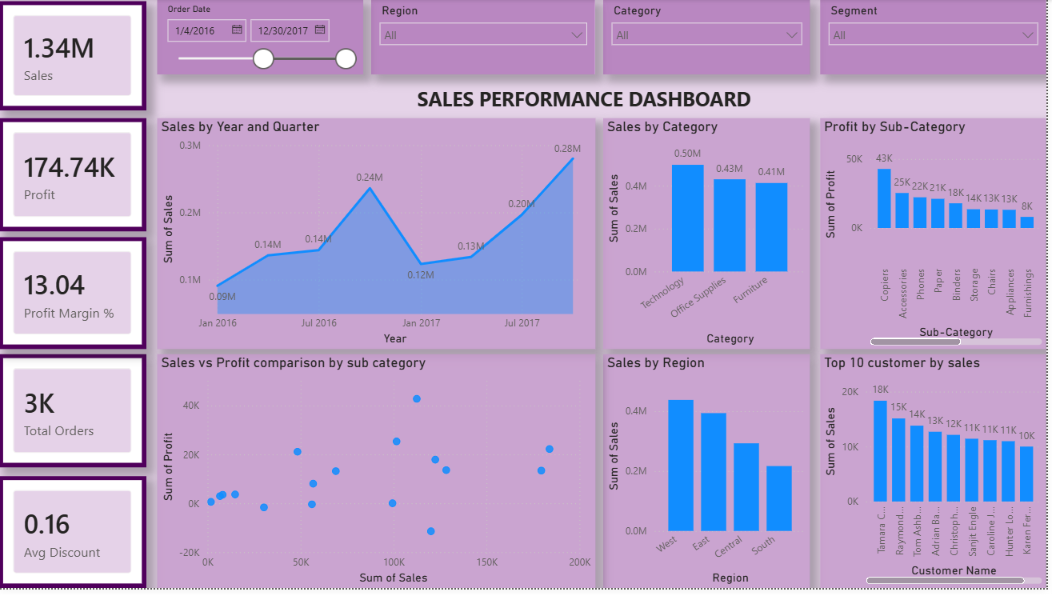

The page's visual inventory and layout, read from the dashboard file:
{"tool":"powerbi","page":{"name":"Page 1","canvas":[1280,720],"ordinal":0},"visuals":[{"type":"cardVisual","fields":{"Data":["Sum(Orders.Sales)"]},"box":[0,2.4,179.8,133.3],"z":0},{"type":"cardVisual","fields":{"Data":["Sum(Orders.Profit)"]},"box":[0,145.5,179.8,138.2],"z":1000},{"type":"cardVisual","fields":{"Data":["Orders.Total Orders"]},"box":[0,434.1,179.8,138.2],"z":2000},{"type":"cardVisual","fields":{"Data":["Orders.Profit Margin %"]},"box":[0,291,179.8,137],"z":3000},{"type":"cardVisual","fields":{"Data":["Orders.Average Discount"]},"box":[0,583.3,179.8,137],"z":4000},{"type":"lineChart","title":"Sales by Year and Quarter","fields":{"Y":["Sum(Orders.Sales)"],"Category":["Orders.Order Date.Variation.Date Hierarchy.Year","Orders.Order Date.Variation.Date Hierarchy.Quarter","Orders.Order Date.Variation.Date Hierarchy.Month"]},"box":[193.2,145.5,535.6,282.5],"z":5000},{"type":"columnChart","title":"Sales by Category","fields":{"Y":["Sum(Orders.Sales)"],"Category":["Orders.Category"]},"box":[738.6,145.5,253.1,282.5],"z":6000},{"type":"columnChart","title":"Profit by Sub-Category","fields":{"Category":["Orders.Sub-Category"],"Y":["Sum(Orders.Profit)"]},"box":[1003.9,145.5,276.4,282.5],"z":7000},{"type":"columnChart","title":"Sales by Region","fields":{"Category":["Orders.Region"],"Y":["Sum(Orders.Sales)"]},"box":[738.6,434.1,253.1,286.1],"z":8000},{"type":"columnChart","title":"Top 10 customer by sales","fields":{"Category":["Orders.Customer Name"],"Y":["Sum(Orders.Sales)"]},"box":[1003.9,434.1,276.4,286.1],"z":9000},{"type":"scatterChart","title":"Sales vs Profit comparison by sub category","fields":{"X":["Sum(Orders.Sales)"],"Y":["Sum(Orders.Profit)"],"Category":["Orders.Sub-Category"]},"box":[193.2,434.1,535.6,286.1],"z":10000},{"type":"slicer","fields":{"Values":["Orders.Order Date"]},"box":[193.2,0,251.9,91.7],"z":11000},{"type":"slicer","fields":{"Values":["People.Region"]},"box":[454.9,0,273.9,91.7],"z":12000},{"type":"slicer","fields":{"Values":["Orders.Category"]},"box":[738.6,0,253.1,91.7],"z":13000},{"type":"slicer","fields":{"Values":["Orders.Segment"]},"box":[1003.9,0,276.4,91.7],"z":14000},{"type":"textbox","box":[506.3,100.3,443.9,45.2],"z":14001}]}

Visuals, with their boxes in screenshot pixels (x1, y1, x2, y2), scaled from the page's 1280x720 canvas onto the 1052x595 screenshot:
cardVisual - Sum(Orders.Sales): 0/2/148/112
cardVisual - Sum(Orders.Profit): 0/120/148/234
cardVisual - Orders.Total Orders: 0/359/148/473
cardVisual - Orders.Profit Margin %: 0/240/148/354
cardVisual - Orders.Average Discount: 0/482/148/594
"Sales by Year and Quarter" lineChart: 159/120/599/354
"Sales by Category" columnChart: 607/120/815/354
"Profit by Sub-Category" columnChart: 825/120/1051/354
"Sales by Region" columnChart: 607/359/815/594
"Top 10 customer by sales" columnChart: 825/359/1051/594
"Sales vs Profit comparison by sub category" scatterChart: 159/359/599/594
slicer - Orders.Order Date: 159/0/366/76
slicer - People.Region: 374/0/599/76
slicer - Orders.Category: 607/0/815/76
slicer - Orders.Segment: 825/0/1051/76
textbox: 416/83/781/120
